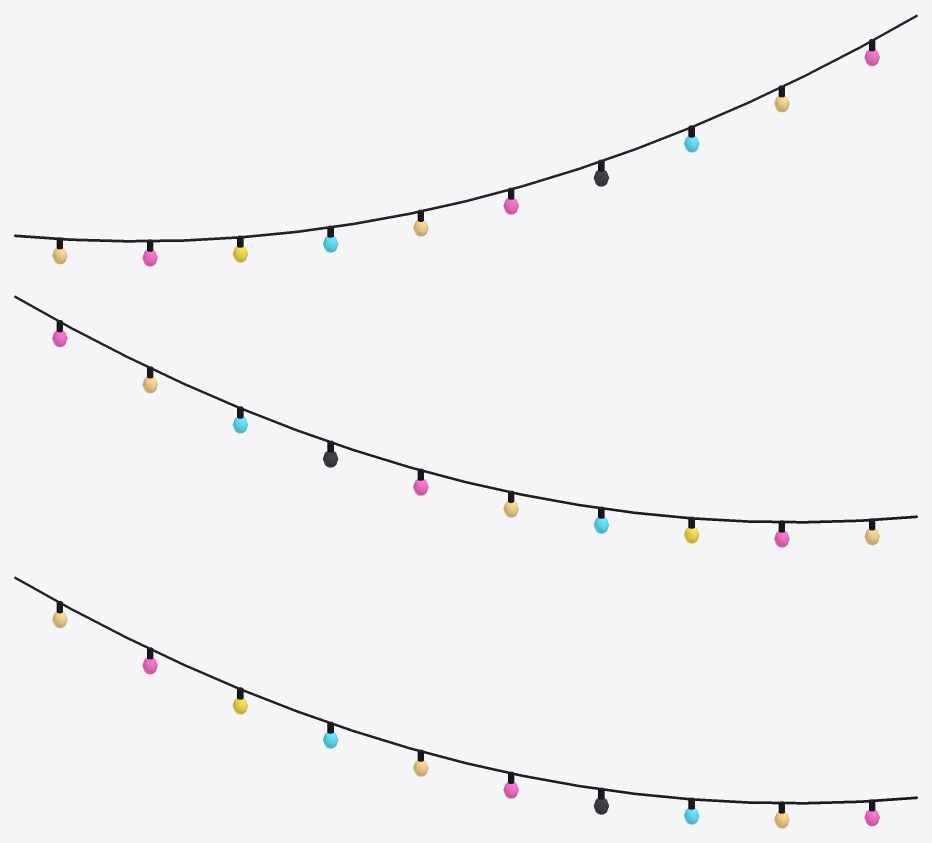
File: s_stringlights.glb
3 views of the same model, one above another, from view 1: azimuth 30°, elevation 25°; view 2: azimuth 150°, elevation 25°; view 3: azimuth 330°, elevation 25° (orthographic).
Parts seen in each view (by area): view 1: s_stringlights_mesh; view 2: s_stringlights_mesh; view 3: s_stringlights_mesh.
Boxes of the visible parts, bbox=[...] form: s_stringlights_mesh: bbox=[14, 14, 917, 266]; s_stringlights_mesh: bbox=[14, 295, 917, 547]; s_stringlights_mesh: bbox=[14, 576, 917, 828].
Bounding box in the file's own units: 4 × 0.4296 × 0.06.
2 materials, 2 textured.
